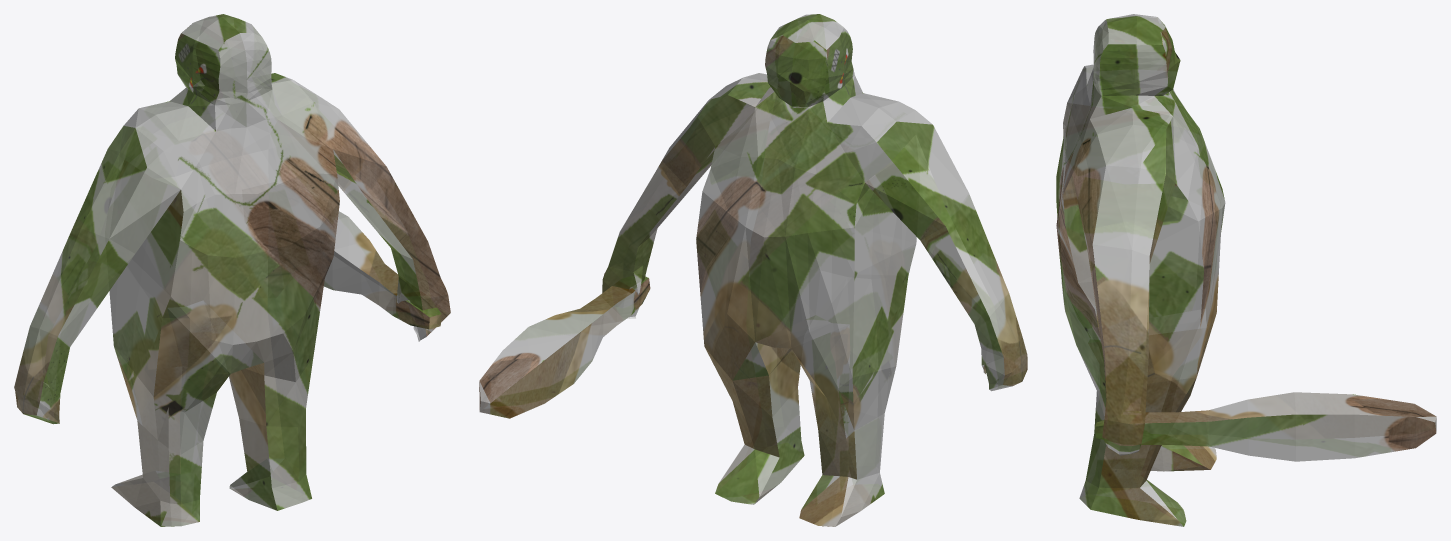
The model's file is Enemigo227.obj.
The picture shows the model from 3 angles, left to right: view 1: azimuth 30°, elevation 25°; view 2: azimuth 150°, elevation 25°; view 3: azimuth 270°, elevation 25°; orthographic projection. The views are drawn at different scales.
Parts seen in each view (by area): view 1: Cube; view 2: Cube; view 3: Cube.
Part boxes in pixels (x1,y1,x2,y2): Cube: (14, 14, 450, 526); Cube: (479, 14, 1027, 526); Cube: (1056, 14, 1436, 526).
Size of the model in its own units: 2.52 by 2.81 by 2.02.
